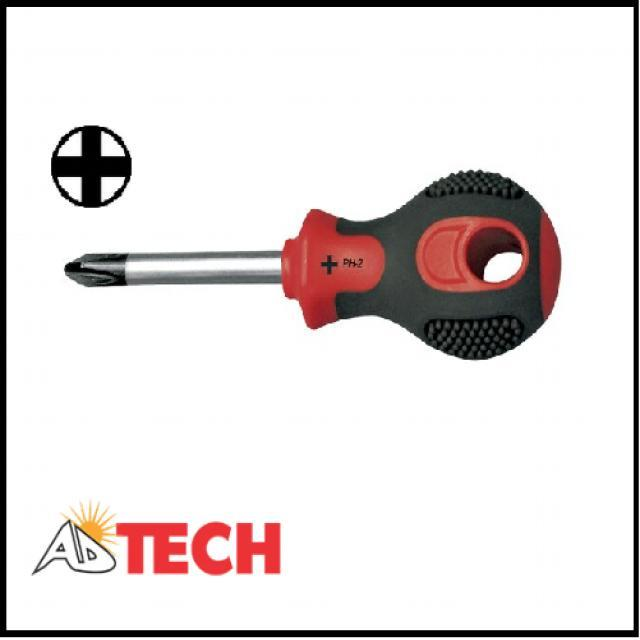screwdriver: (62, 168, 575, 370)
